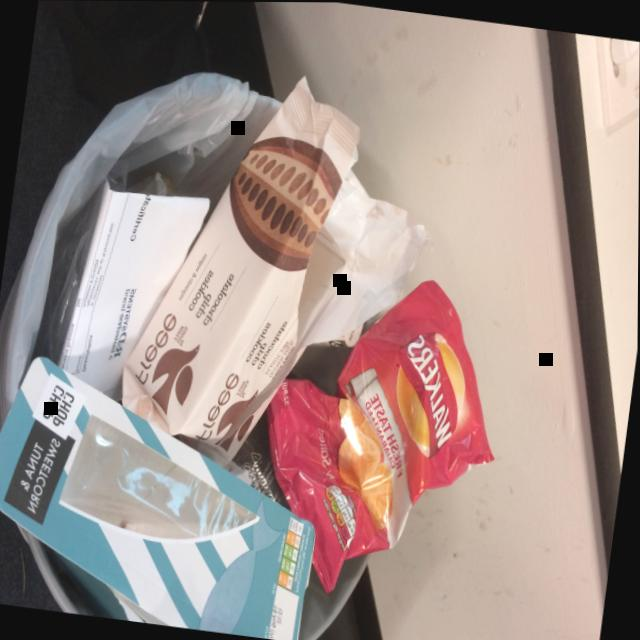Crisp packet: (265, 279, 494, 593)
Garbage bag: (3, 70, 282, 406)
Meal carton: (0, 357, 316, 640)
Normal paper: (57, 180, 208, 392)
Other carton: (217, 225, 345, 445)
Other plastic: (121, 75, 432, 466)
Plastic film: (59, 414, 255, 538)
